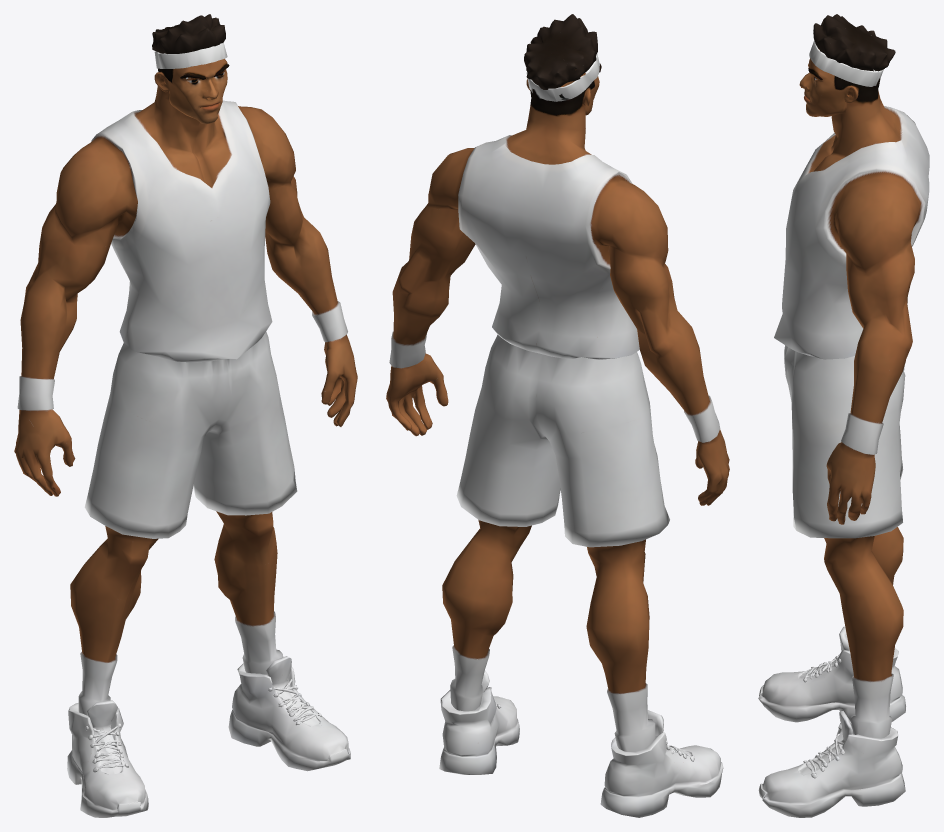
File: slasher.glb
3 renders of one model, left to right at view 1: azimuth 30°, elevation 25°; view 2: azimuth 150°, elevation 25°; view 3: azimuth 270°, elevation 25°, orthographic. The views are drawn at different scales.
Parts seen in each view (by area): view 1: geometry_0; view 2: geometry_0; view 3: geometry_0.
Boxes of the visible parts, x1,y1,x2,y2 form: geometry_0: [14, 14, 357, 817]; geometry_0: [386, 14, 729, 817]; geometry_0: [758, 14, 929, 817].
Bounding box in the file's own units: 0.4438 × 0.9497 × 0.1987.
Materials: 1 (1 with a texture image).
